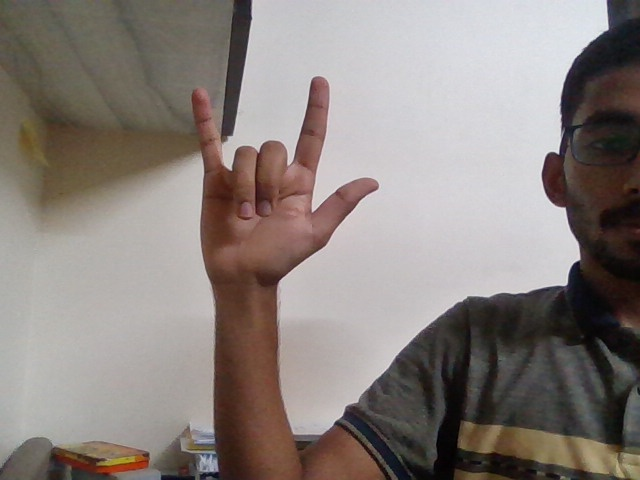Enjoy: (164, 60, 400, 322)
